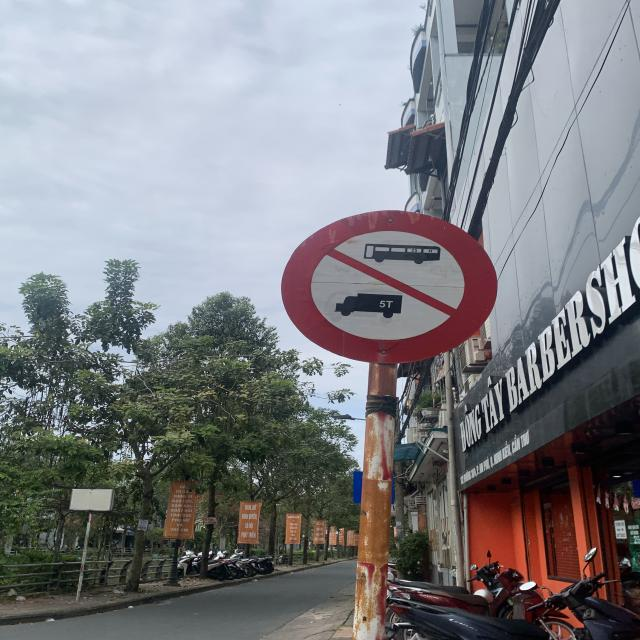Cam_XeTai_XeKhach: (281, 208, 497, 366)
